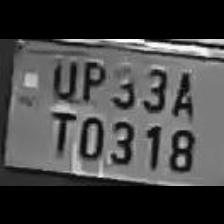0: (73, 110, 103, 162)
1: (138, 120, 162, 168)
3: (107, 57, 137, 109), (105, 113, 135, 165), (138, 62, 166, 112)
8: (164, 122, 196, 172)
A: (167, 63, 197, 119)
P: (75, 56, 105, 104)
T: (43, 103, 75, 157)
U: (44, 54, 80, 102)
